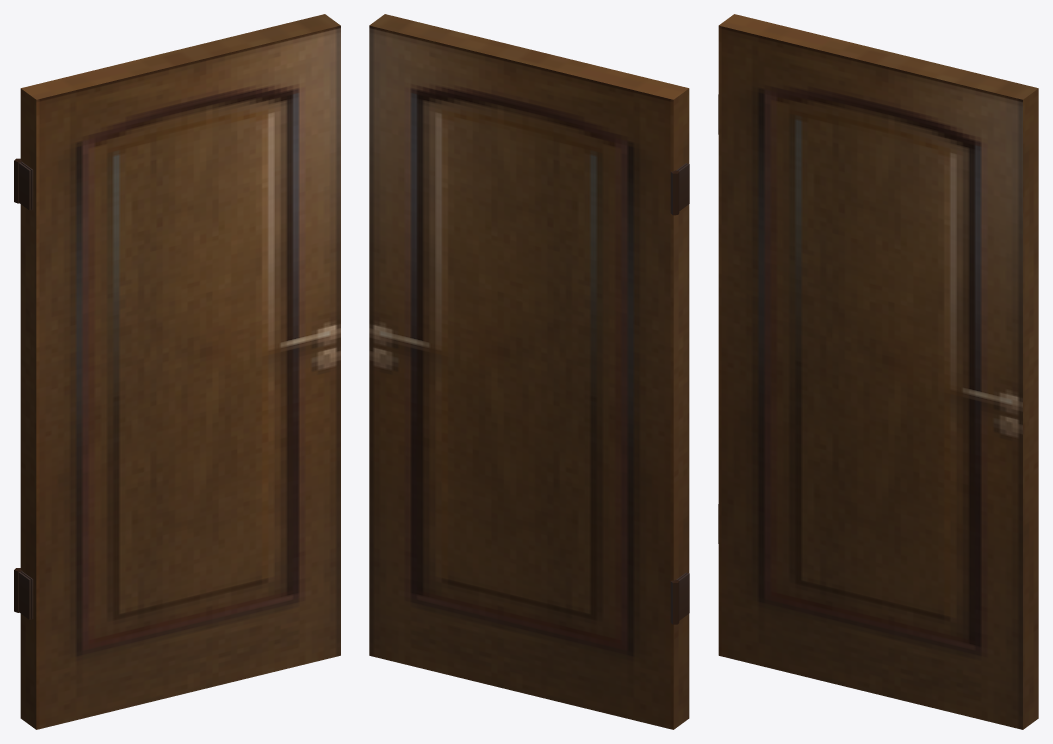
Rendered from door.fbx.
The picture shows the model from 3 angles, left to right: view 1: azimuth 30°, elevation 25°; view 2: azimuth 150°, elevation 25°; view 3: azimuth 330°, elevation 25°; orthographic projection.
Visible parts, largest first — view 1: Cube_Material_0, Cube.001_Material_0, Cube.004_Material.016_0; view 2: Cube_Material_0; view 3: Cube_Material_0.
Part boxes in pixels (x1,y1,x2,y2): Cube_Material_0: (20, 14, 340, 729); Cube.001_Material_0: (18, 162, 31, 210); Cube.004_Material.016_0: (18, 572, 31, 619); Cube_Material_0: (369, 14, 689, 729); Cube_Material_0: (718, 14, 1038, 729).
Size of the model in its own units: 103 by 200 by 10.53.
